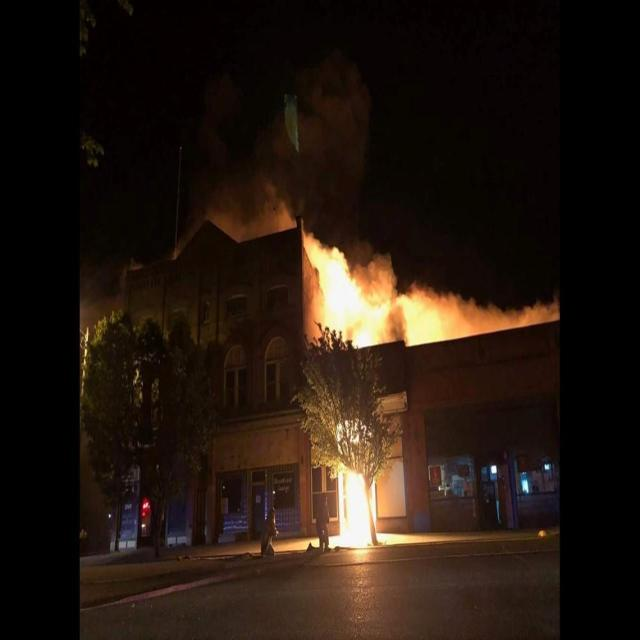Fire: (301, 218, 551, 326), (329, 442, 381, 554)
